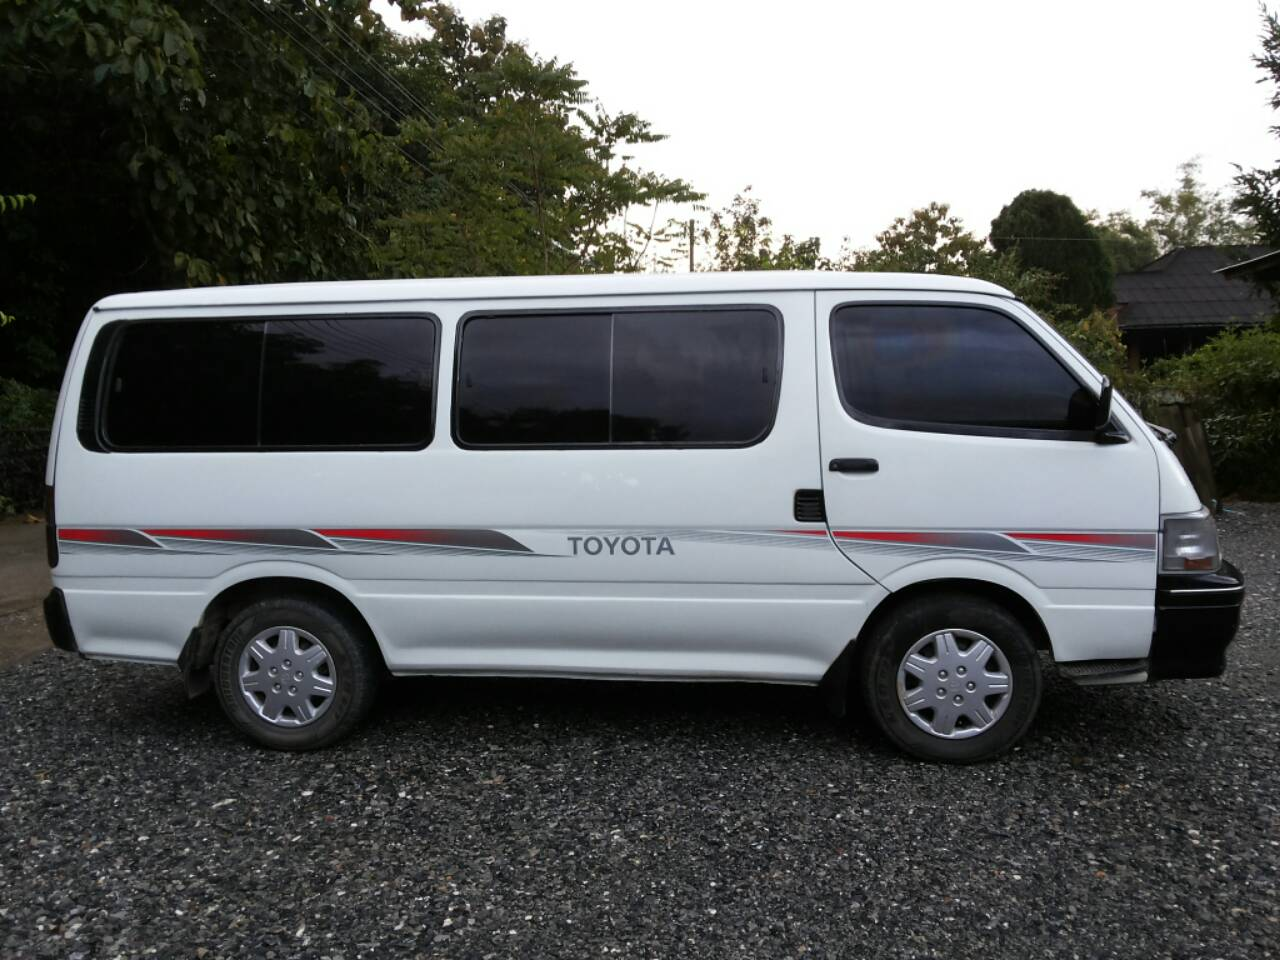van: (39, 264, 1249, 769)
